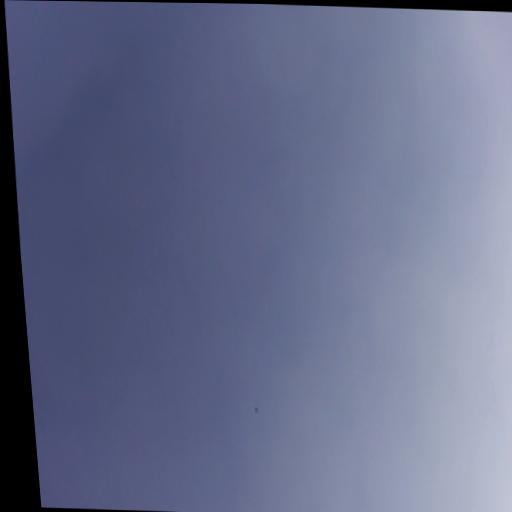drones: (253, 406, 260, 415)
